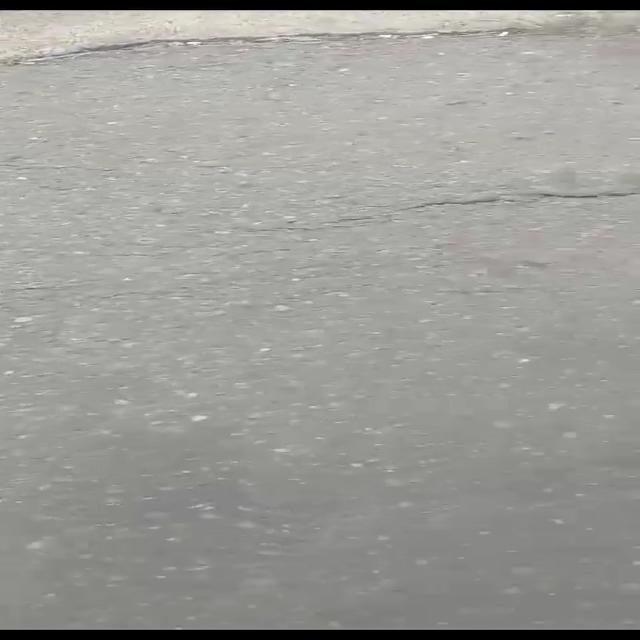Melintang: (222, 168, 640, 253)
